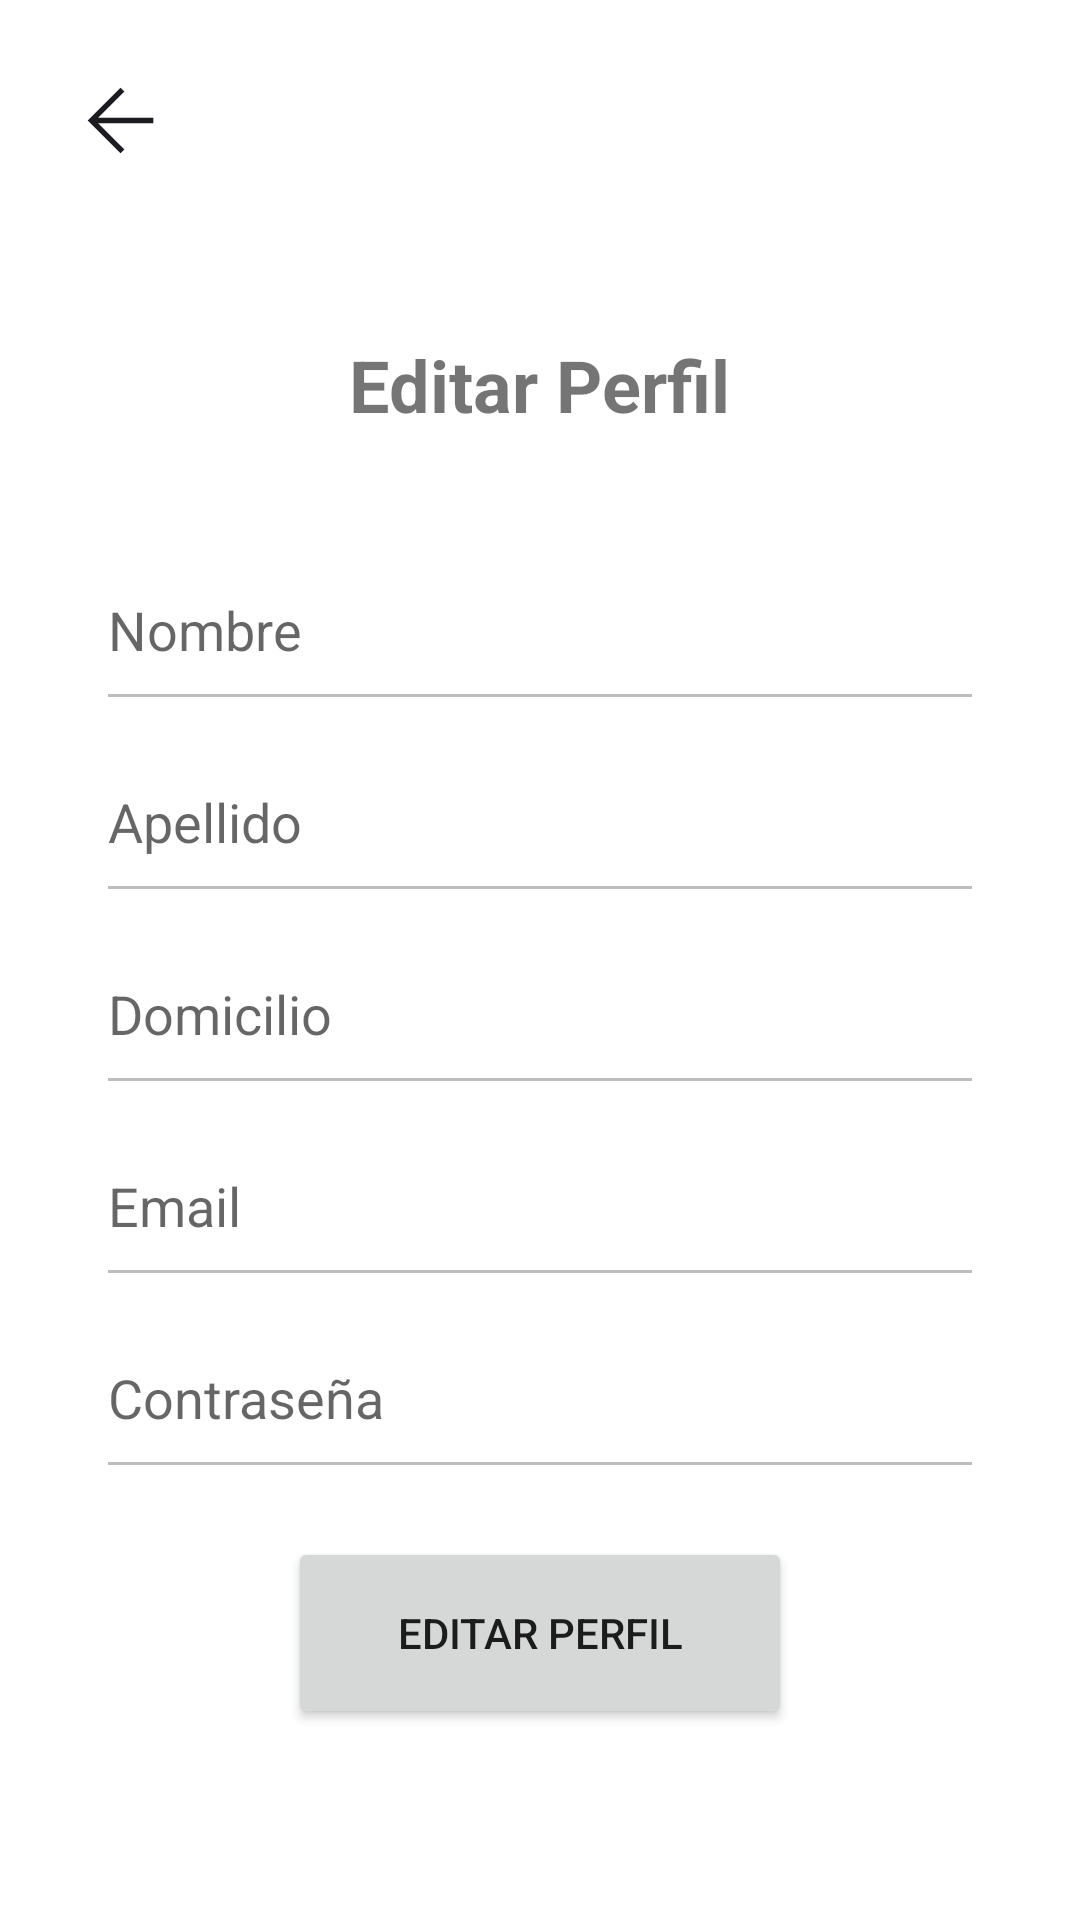

Icon click points for this 1080×1920 phone screenshot, format point (x, y):
Volver: point (121, 120)
